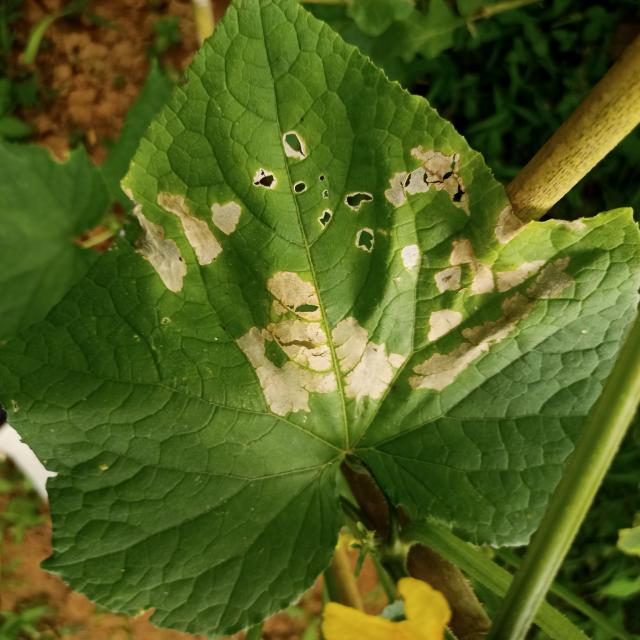disease_cucumber: (127, 136, 579, 419)
